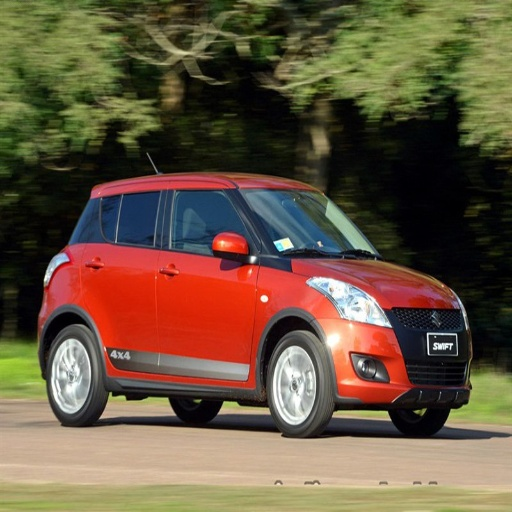front_bumper: (325, 307, 472, 407)
front_right_door: (157, 186, 258, 379)
front_right_light: (312, 277, 389, 326)
